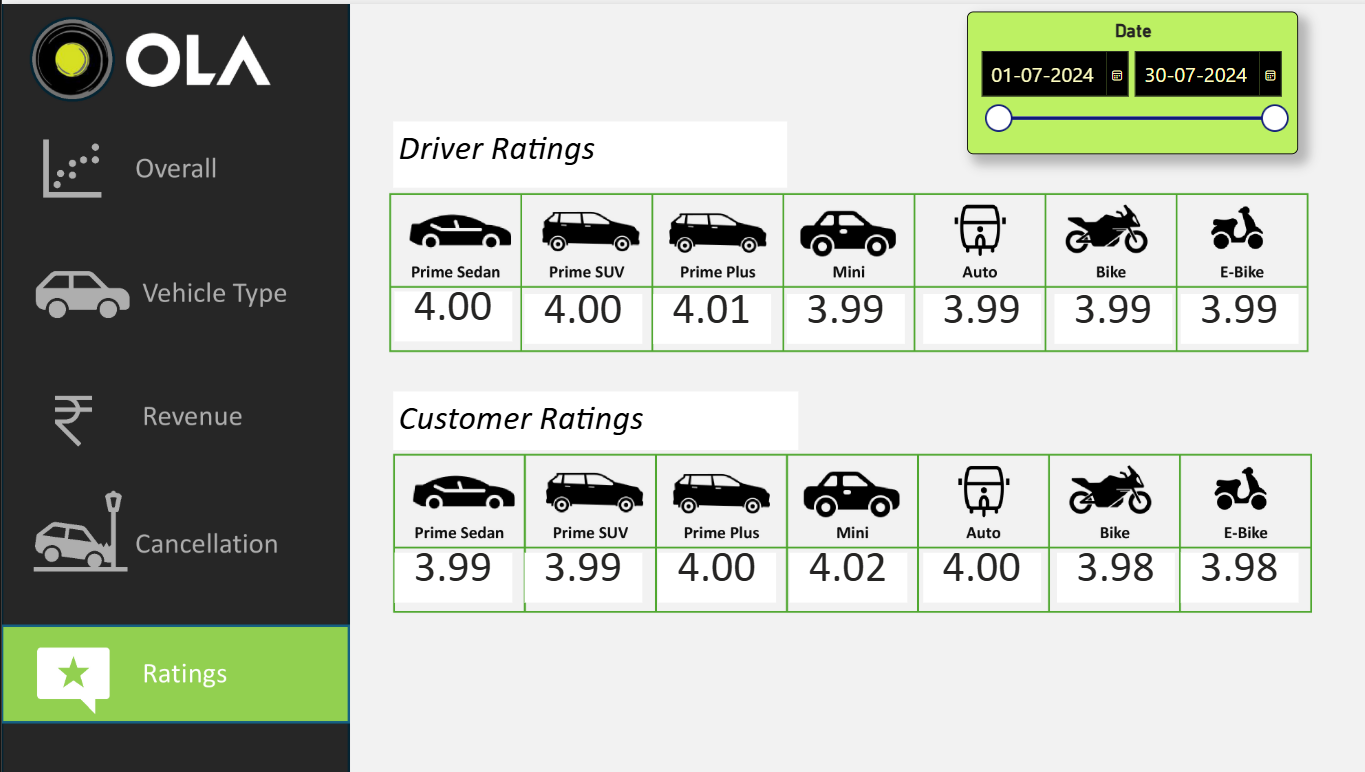

This screenshot's page, from the dashboard's own definition file:
{"tool":"powerbi","page":{"name":"Ratings","canvas":[1280,720],"ordinal":4},"visuals":[{"type":"actionButton","box":[0,110,323.3,94.1],"z":0},{"type":"actionButton","box":[0,223.4,323.3,94.1],"z":1},{"type":"actionButton","box":[0,339.1,323.3,94.1],"z":2},{"type":"actionButton","box":[0,451.4,323.3,94.1],"z":3},{"type":"card","fields":{"Values":["Avg(booking.Driver_Ratings)"]},"box":[365,267.2,109.5,46.7],"z":6},{"type":"card","fields":{"Values":["Avg(booking.Driver_Ratings)"]},"box":[486.1,270.1,109.5,46.7],"z":7},{"type":"card","fields":{"Values":["Avg(booking.Customer_Rating)"]},"box":[981,511,109.5,46.7],"z":8},{"type":"card","fields":{"Values":["Avg(booking.Customer_Rating)"]},"box":[856.9,511,109.5,46.7],"z":9},{"type":"card","fields":{"Values":["Avg(booking.Driver_Ratings)"]},"box":[729.9,270.1,109.5,46.7],"z":10},{"type":"card","fields":{"Values":["Avg(booking.Driver_Ratings)"]},"box":[605.8,270.1,109.5,46.7],"z":11},{"type":"card","fields":{"Values":["Avg(booking.Driver_Ratings)"]},"box":[1096.4,270.1,109.5,46.7],"z":12},{"type":"card","fields":{"Values":["Avg(booking.Customer_Rating)"]},"box":[365,511,109.5,46.7],"z":13},{"type":"card","fields":{"Values":["Avg(booking.Customer_Rating)"]},"box":[486.1,511,109.5,46.7],"z":14},{"type":"card","fields":{"Values":["Avg(booking.Customer_Rating)"]},"box":[611,511,109.5,46.7],"z":15},{"type":"card","fields":{"Values":["Avg(booking.Customer_Rating)"]},"box":[733,511,109.5,46.7],"z":16},{"type":"card","fields":{"Values":["Avg(booking.Driver_Ratings)"]},"box":[856.9,270.1,109.5,46.7],"z":17},{"type":"card","fields":{"Values":["Avg(booking.Driver_Ratings)"]},"box":[979.6,270.1,109.5,46.7],"z":18},{"type":"card","fields":{"Values":["Avg(booking.Customer_Rating)"]},"box":[1096.4,511,109.5,46.7],"z":19},{"type":"textbox","box":[363.5,109.5,366.4,61.3],"z":20},{"type":"textbox","box":[363.5,360.6,376.6,54],"z":21},{"type":"slicer","title":"Date","fields":{"Values":["booking.Date"]},"box":[897.8,7.3,308,132.8],"z":22}]}

Visuals, with their boxes in screenshot pixels (x1, y1, x2, y2), scaled from the page's 1280x720 canvas onto the 1365x772 screenshot:
actionButton: detection(0, 118, 345, 219)
actionButton: detection(0, 240, 345, 340)
actionButton: detection(0, 364, 345, 464)
actionButton: detection(0, 484, 345, 585)
card - Avg(booking.Driver_Ratings): detection(389, 286, 506, 337)
card - Avg(booking.Driver_Ratings): detection(518, 290, 635, 340)
card - Avg(booking.Customer_Rating): detection(1046, 548, 1163, 598)
card - Avg(booking.Customer_Rating): detection(914, 548, 1031, 598)
card - Avg(booking.Driver_Ratings): detection(778, 290, 895, 340)
card - Avg(booking.Driver_Ratings): detection(646, 290, 763, 340)
card - Avg(booking.Driver_Ratings): detection(1169, 290, 1286, 340)
card - Avg(booking.Customer_Rating): detection(389, 548, 506, 598)
card - Avg(booking.Customer_Rating): detection(518, 548, 635, 598)
card - Avg(booking.Customer_Rating): detection(652, 548, 768, 598)
card - Avg(booking.Customer_Rating): detection(782, 548, 898, 598)
card - Avg(booking.Driver_Ratings): detection(914, 290, 1031, 340)
card - Avg(booking.Driver_Ratings): detection(1045, 290, 1161, 340)
card - Avg(booking.Customer_Rating): detection(1169, 548, 1286, 598)
textbox: detection(388, 117, 778, 183)
textbox: detection(388, 387, 789, 445)
"Date" slicer: detection(957, 8, 1286, 150)
